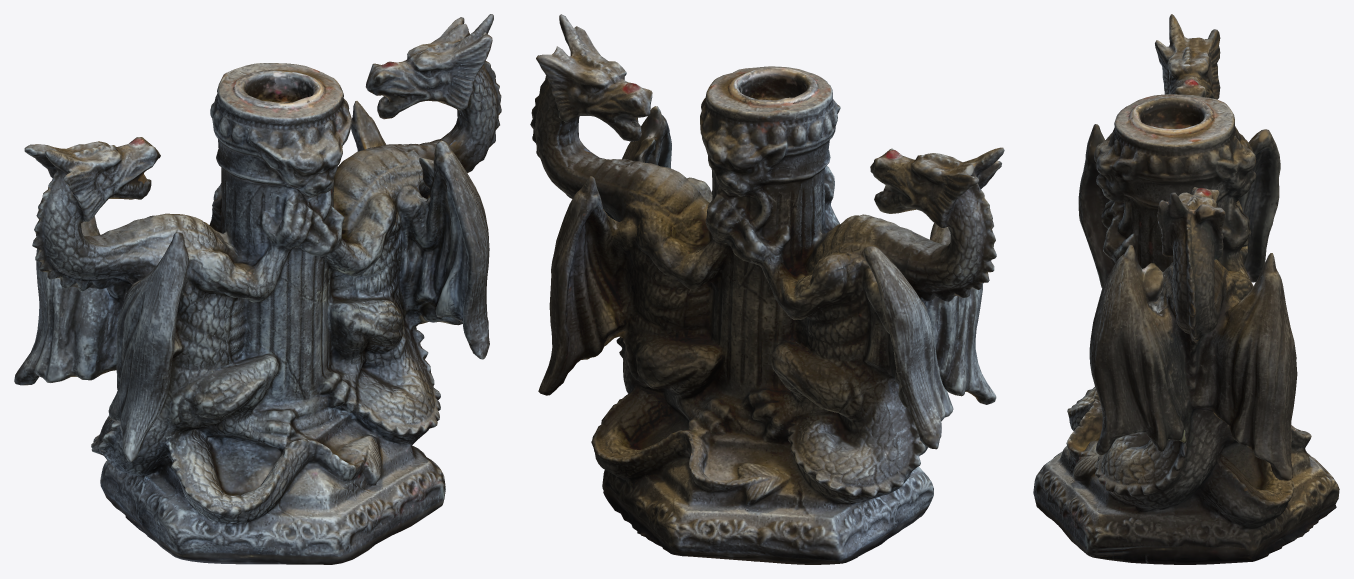
Rendered from Dragons Candle.fbx.
3 views of the same model, side by side, from view 1: azimuth 30°, elevation 25°; view 2: azimuth 150°, elevation 25°; view 3: azimuth 270°, elevation 25° (orthographic). The views are drawn at different scales.
Parts seen in each view (by area): view 1: Mesh; view 2: Mesh; view 3: Mesh.
Boxes of the visible parts, box(x1,y1,x2,y2) form: Mesh: box(14, 14, 501, 564); Mesh: box(530, 14, 1004, 564); Mesh: box(1033, 14, 1339, 564).
Bounding box in the file's own units: 11.23 × 10.38 × 6.77.
